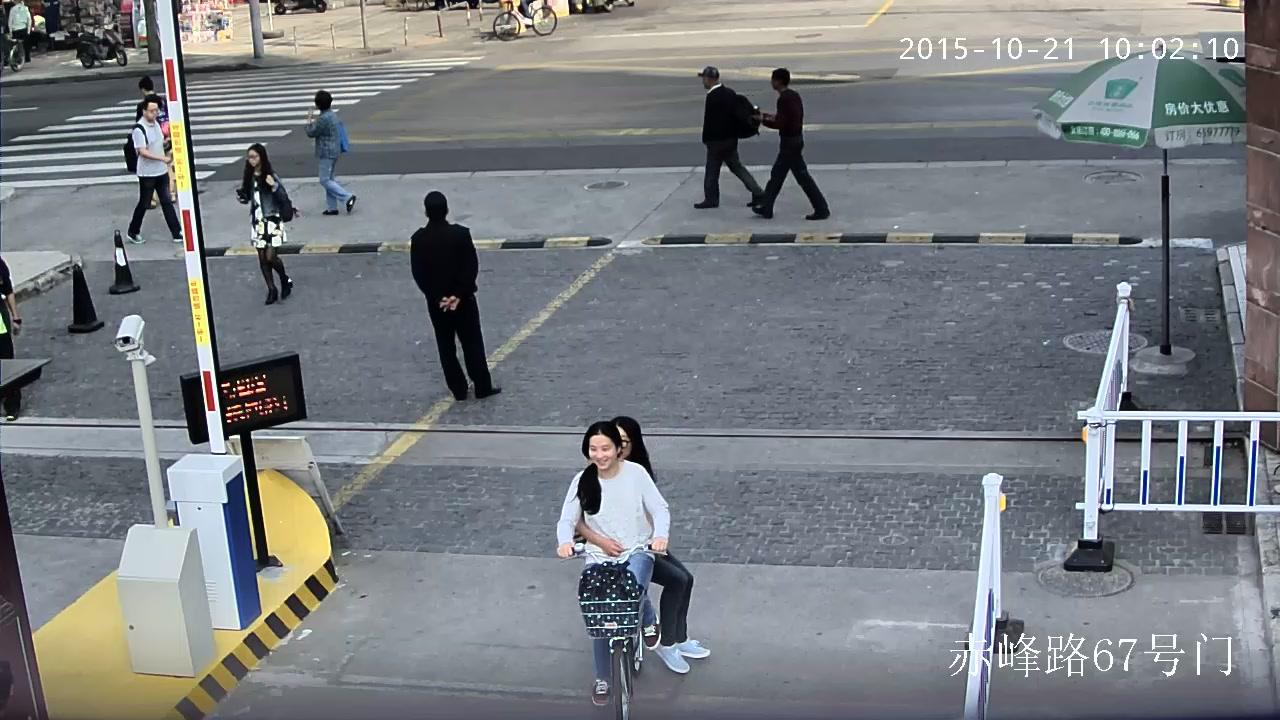person: (554, 420, 670, 720), (555, 420, 672, 704), (608, 416, 709, 674), (409, 190, 500, 402), (752, 68, 829, 219), (693, 65, 763, 208), (235, 142, 295, 305), (123, 94, 181, 243), (304, 89, 355, 215), (136, 75, 176, 208), (0, 255, 23, 419), (7, 0, 31, 70), (8, 0, 31, 62)
